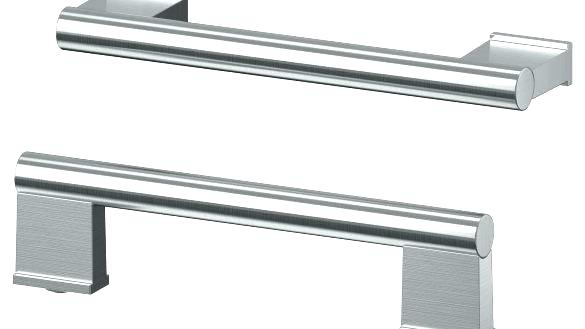handle: (7, 140, 525, 329), (41, 7, 579, 119)
